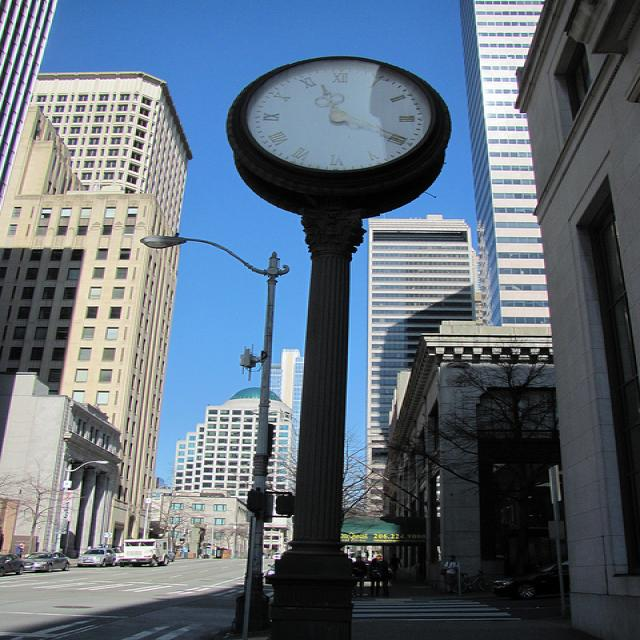Vehicle: (493, 553, 572, 600), (116, 540, 170, 566), (23, 552, 71, 573), (77, 548, 117, 567), (0, 554, 25, 576), (168, 550, 176, 562), (273, 552, 283, 560)
